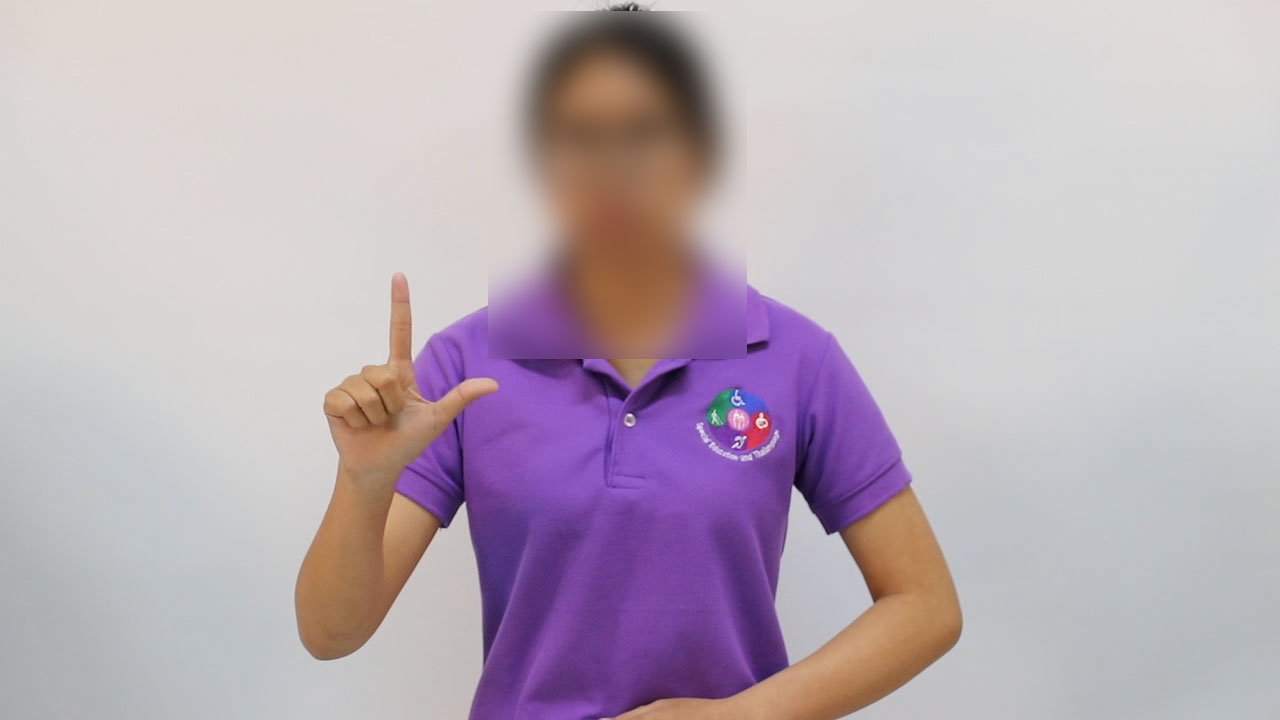lor: (293, 260, 508, 492)
